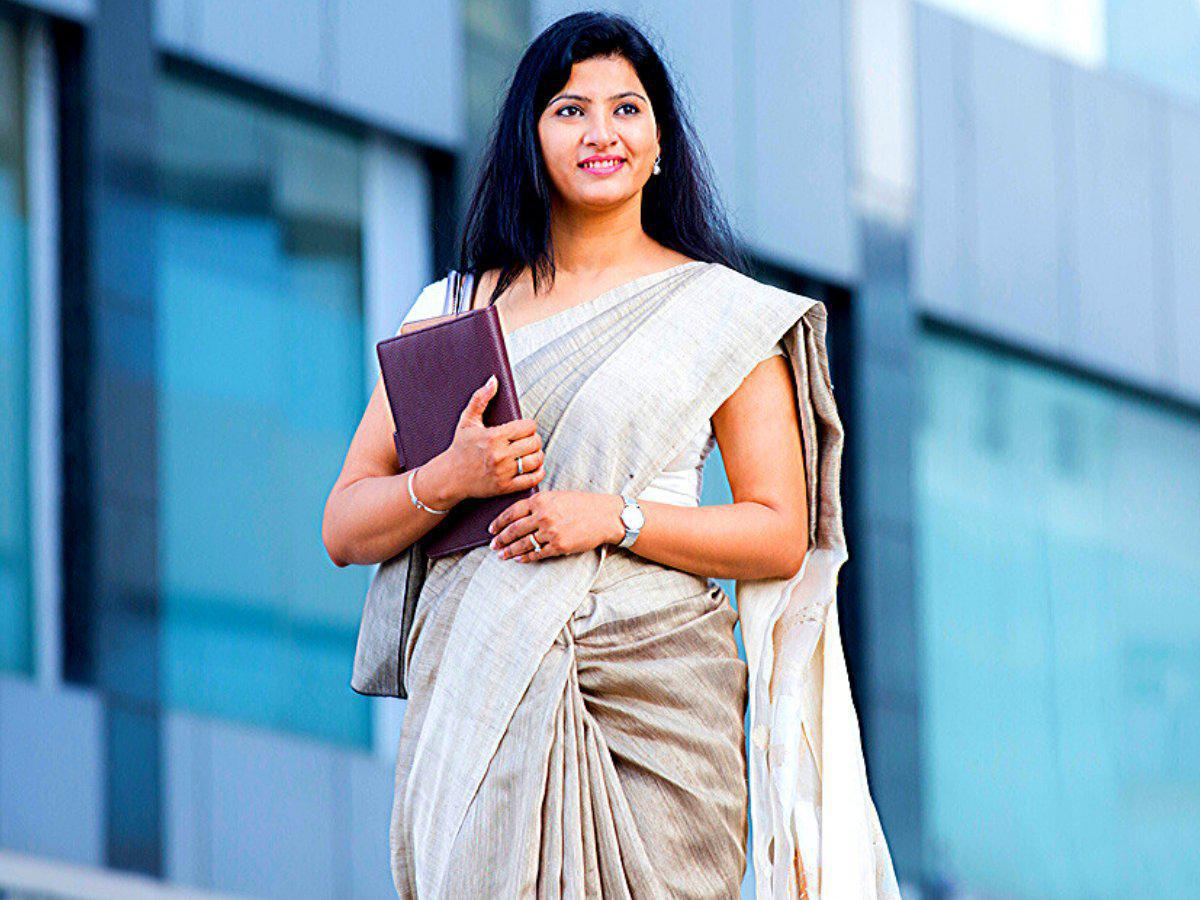Sober: (541, 64, 660, 189)
